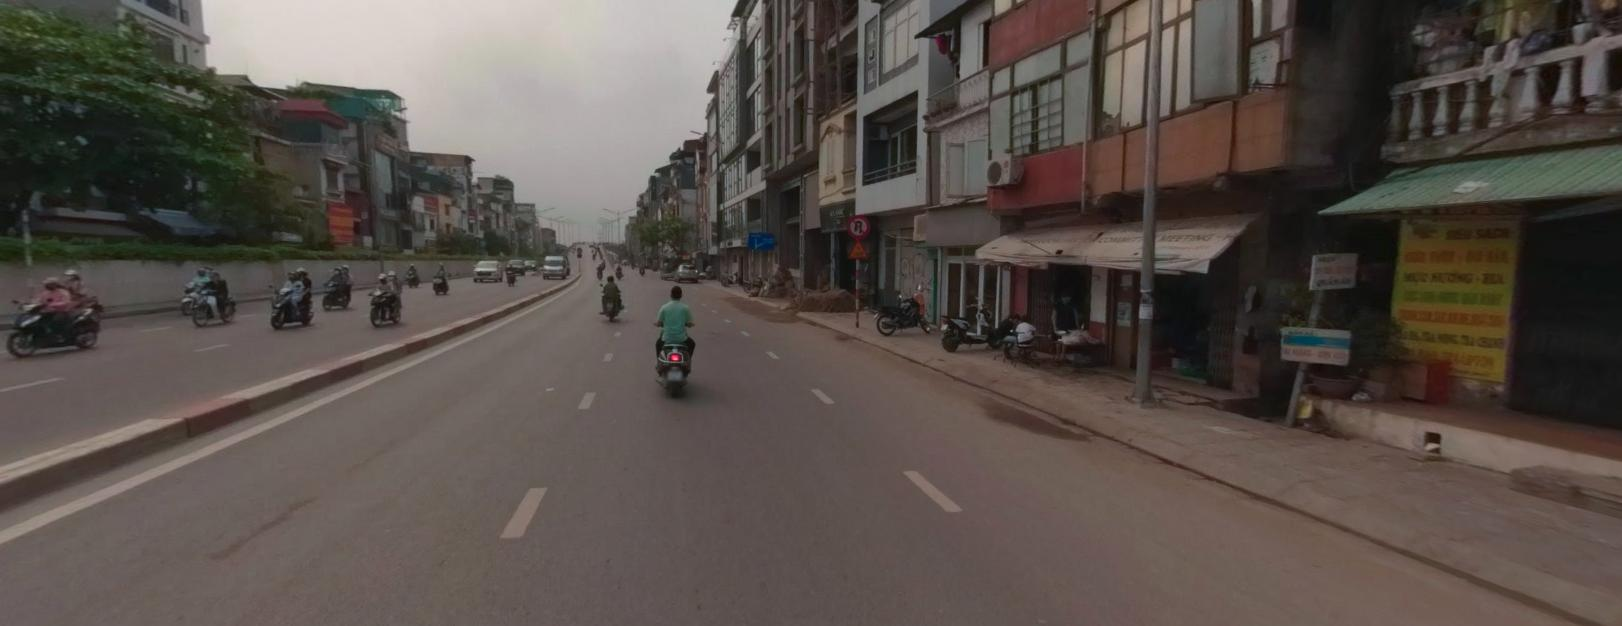Cam re: (847, 215, 868, 236)
Nguy hiem: (847, 237, 868, 256)
